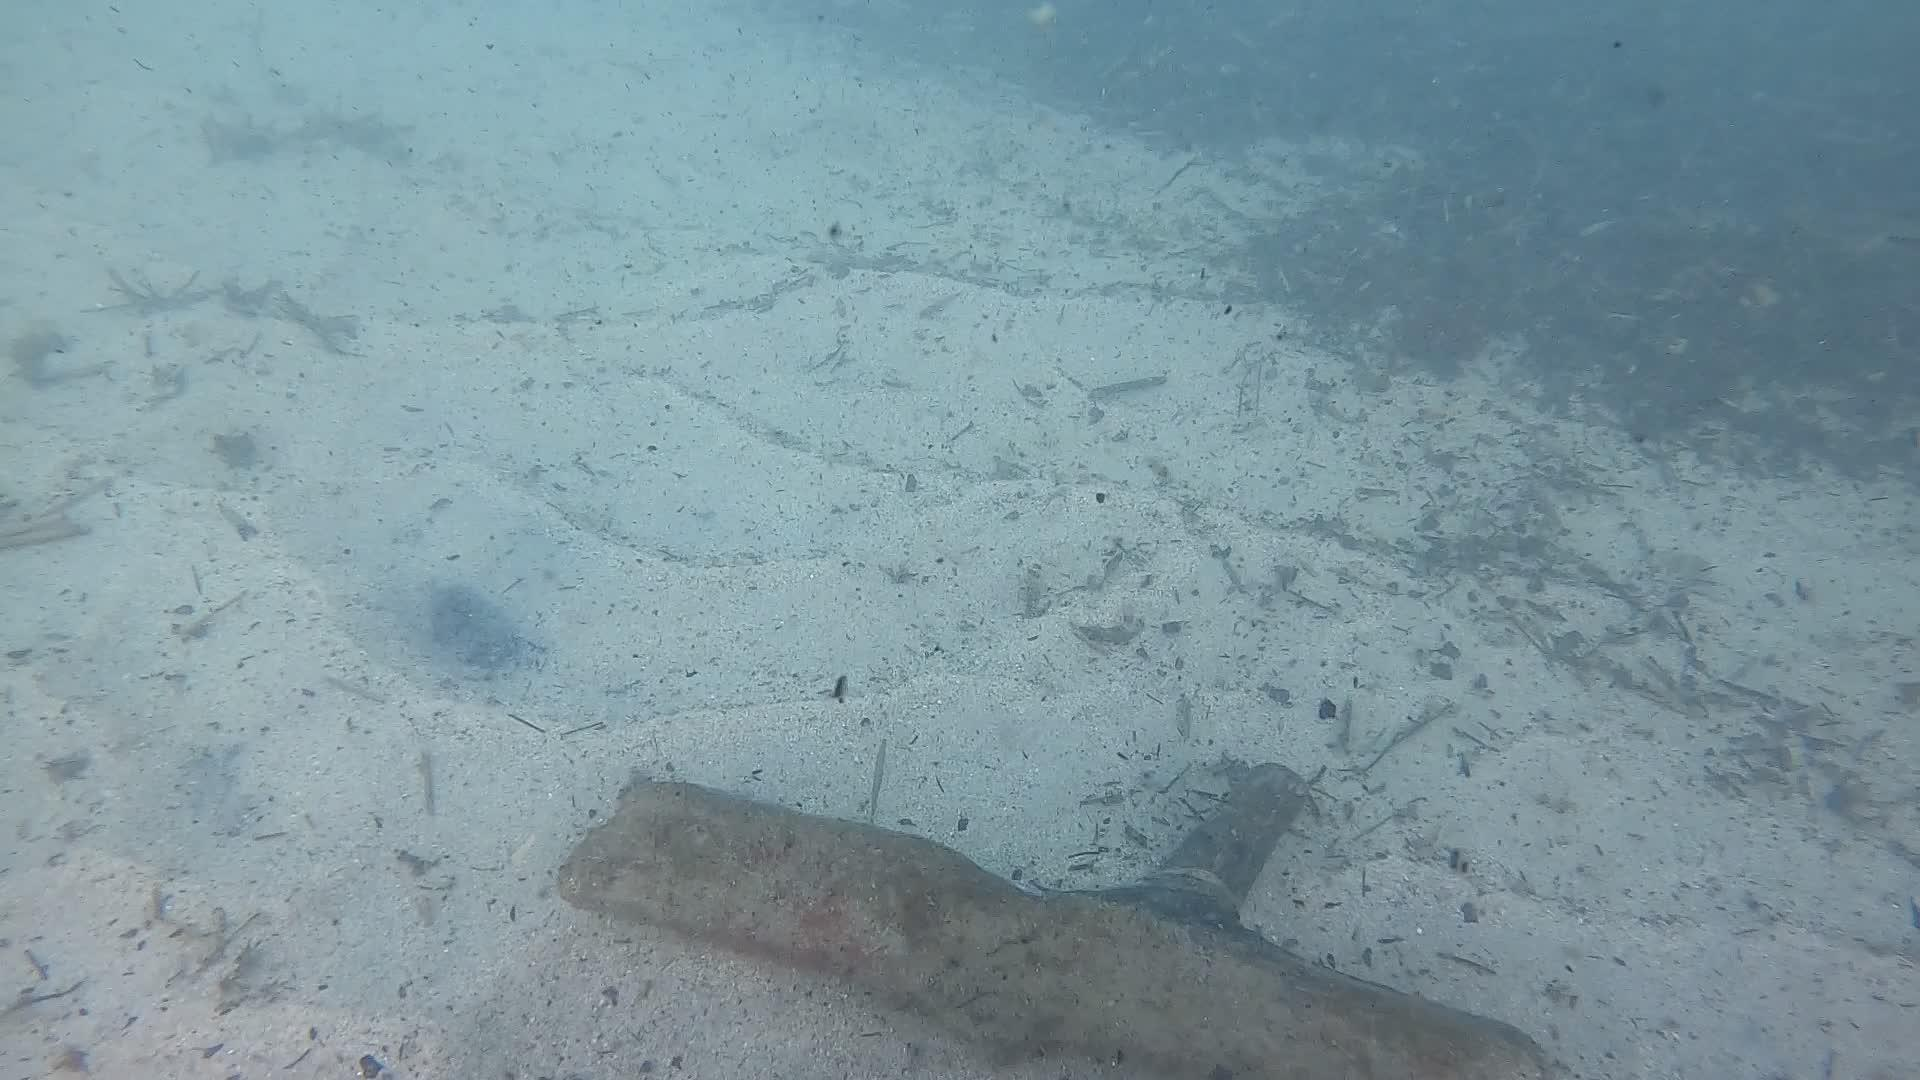wood: (553, 764, 1589, 1080)
